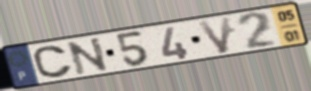2: (236, 10, 281, 52)
4: (159, 24, 191, 61)
5: (114, 28, 150, 69)
C: (31, 44, 75, 80)
N: (64, 35, 111, 77)
V: (195, 15, 233, 56)
